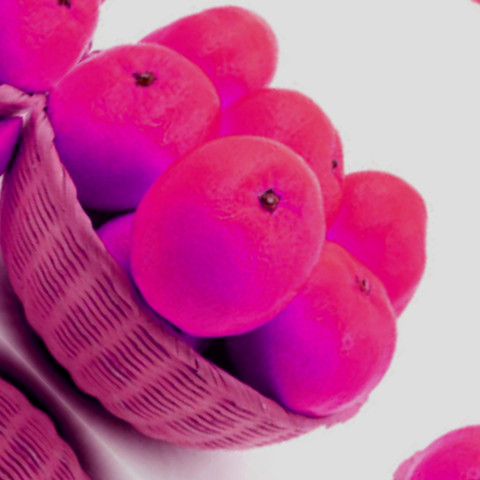orange: (87, 87, 382, 382), (194, 200, 467, 474), (0, 0, 261, 259)
